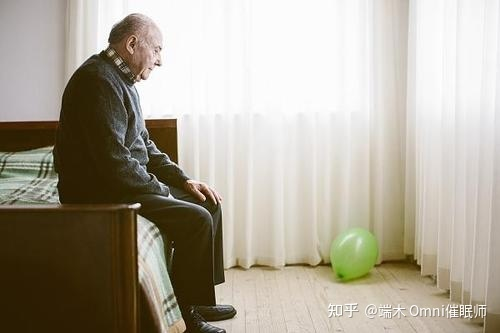sitting: (43, 7, 253, 333)
